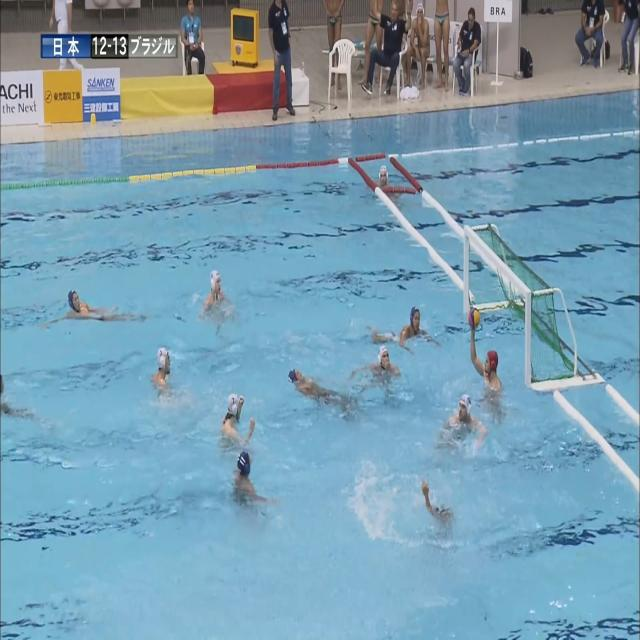ball: (468, 307, 479, 329)
